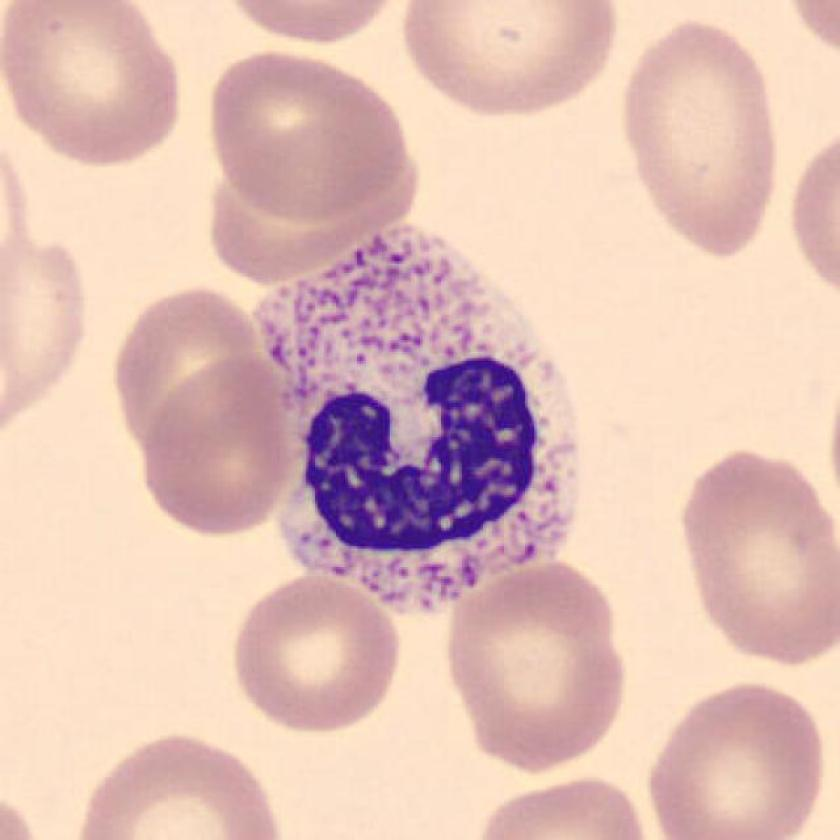neutrophil: (240, 223, 581, 619)
